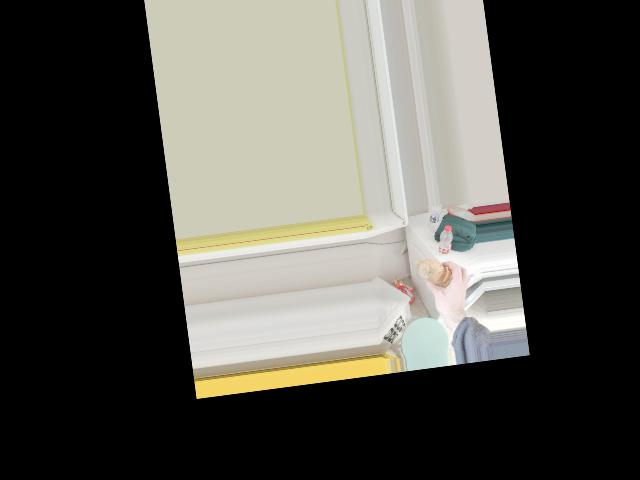sweet_potato: (417, 255, 451, 290)
